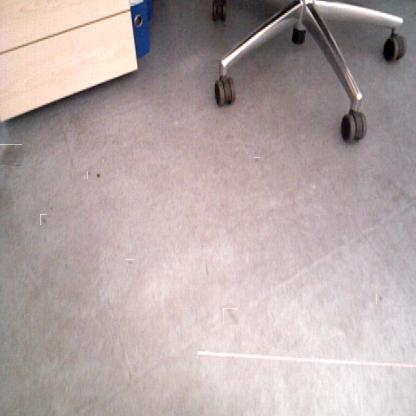mark: (1, 144, 22, 166), (222, 308, 239, 325), (202, 261, 210, 281), (40, 214, 47, 225), (126, 259, 135, 267), (376, 294, 383, 304), (95, 172, 101, 180), (254, 157, 260, 164), (87, 172, 92, 180), (50, 204, 54, 212)
